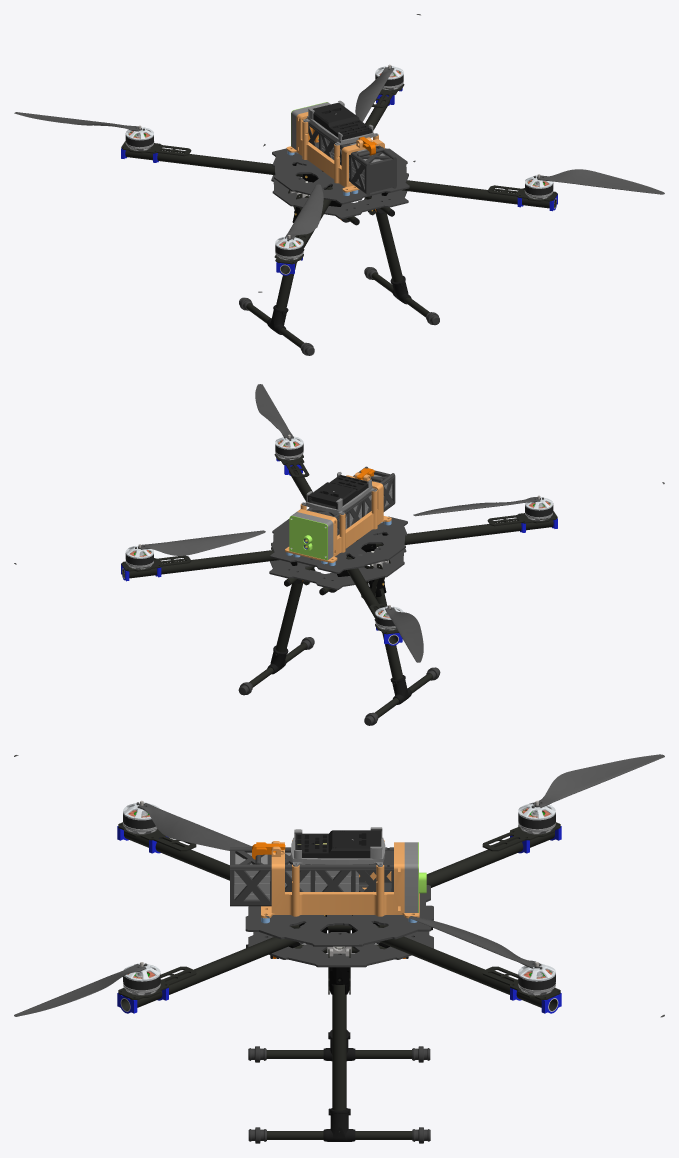
Rendered from Cuber650.fbx.
The picture shows the model from 3 angles, top to bottom: view 1: azimuth 30°, elevation 25°; view 2: azimuth 150°, elevation 25°; view 3: azimuth 270°, elevation 25°; orthographic projection. The views are drawn at different scales.
Visible parts, largest first — view 1: ANY.003, Корпус аккумулятора 6S, ANY.001, Tarot.002, CarbonArm.003, CarbonArm, 15x5 v1.003, RadioLink PIX6, 15x5 v1.001, 20021-010_leg v1.001, 15x5 v1, 15x5 v1.002 (+1 smaller); view 2: ANY.003, ANY.001, Tarot.002, CarbonArm.002, CarbonArm.001, Седло разъма EC5 батарейного отсека.001, 15x5 v1, RadioLink PIX6, Корпус аккумулятора 6S, 15x5 v1.002, 20021-010_leg v1.001, 15x5 v1.003 (+4 smaller); view 3: ANY.001, ANY.003, Корпус аккумулятора 6S, Tarot.002, RadioLink PIX6, 15x5 v1.002, CarbonArm.001, CarbonArm, 15x5 v1.001, 20021-010_leg v1.001, CarbonArm.003, Аккумулятор 6S 4500mAh (+16 smaller).
Boxes of the visible parts, left/top/right/bottom form: ANY.003: left=272, top=148, right=409, bottom=204; Корпус аккумулятора 6S: left=306, top=118, right=396, bottom=195; ANY.001: left=286, top=112, right=384, bottom=192; Tarot.002: left=271, top=163, right=408, bottom=219; CarbonArm.003: left=125, top=150, right=306, bottom=178; CarbonArm: left=402, top=180, right=556, bottom=208; 15x5 v1.003: left=413, top=160, right=664, bottom=194; RadioLink PIX6: left=313, top=102, right=371, bottom=140; 15x5 v1.001: left=258, top=184, right=323, bottom=292; 20021-010_leg v1.001: left=375, top=212, right=403, bottom=282; 15x5 v1: left=355, top=14, right=420, bottom=121; 15x5 v1.002: left=14, top=112, right=265, bottom=146; ANY.003: left=270, top=516, right=407, bottom=573; ANY.001: left=285, top=472, right=391, bottom=562; Tarot.002: left=269, top=534, right=406, bottom=590; CarbonArm.002: left=371, top=520, right=553, bottom=548; CarbonArm.001: left=122, top=550, right=278, bottom=578; Седло разъма EC5 батарейного отсека.001: left=289, top=516, right=327, bottom=560; 15x5 v1: left=14, top=530, right=265, bottom=564; RadioLink PIX6: left=307, top=475, right=368, bottom=509; Корпус аккумулятора 6S: left=307, top=466, right=395, bottom=535; 15x5 v1.002: left=358, top=554, right=423, bottom=662; 20021-010_leg v1.001: left=275, top=582, right=303, bottom=652; 15x5 v1.003: left=255, top=384, right=293, bottom=440; ANY.001: left=261, top=840, right=419, bottom=918; ANY.003: left=245, top=885, right=431, bottom=946; Корпус аккумулятора 6S: left=230, top=847, right=393, bottom=906; Tarot.002: left=248, top=905, right=433, bottom=967; RadioLink PIX6: left=295, top=830, right=381, bottom=858; 15x5 v1.002: left=531, top=754, right=664, bottom=808; CarbonArm.001: left=377, top=925, right=558, bottom=1011; CarbonArm: left=120, top=926, right=299, bottom=1011; 15x5 v1.001: left=14, top=755, right=252, bottom=850; 20021-010_leg v1.001: left=332, top=979, right=346, bottom=1110; CarbonArm.003: left=426, top=832, right=554, bottom=887; Аккумулятор 6S 4500mAh: left=234, top=852, right=358, bottom=899.
Size of the model in its own units: 69.02 by 72.39 by 32.53.
